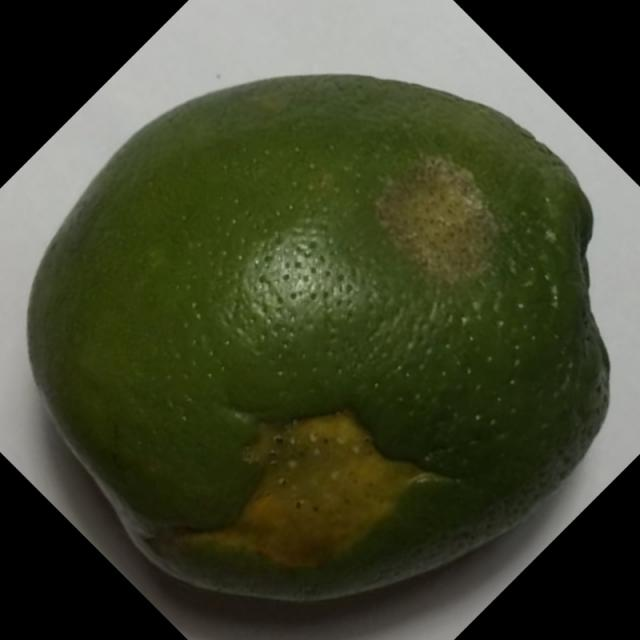canker: (18, 58, 633, 623)
